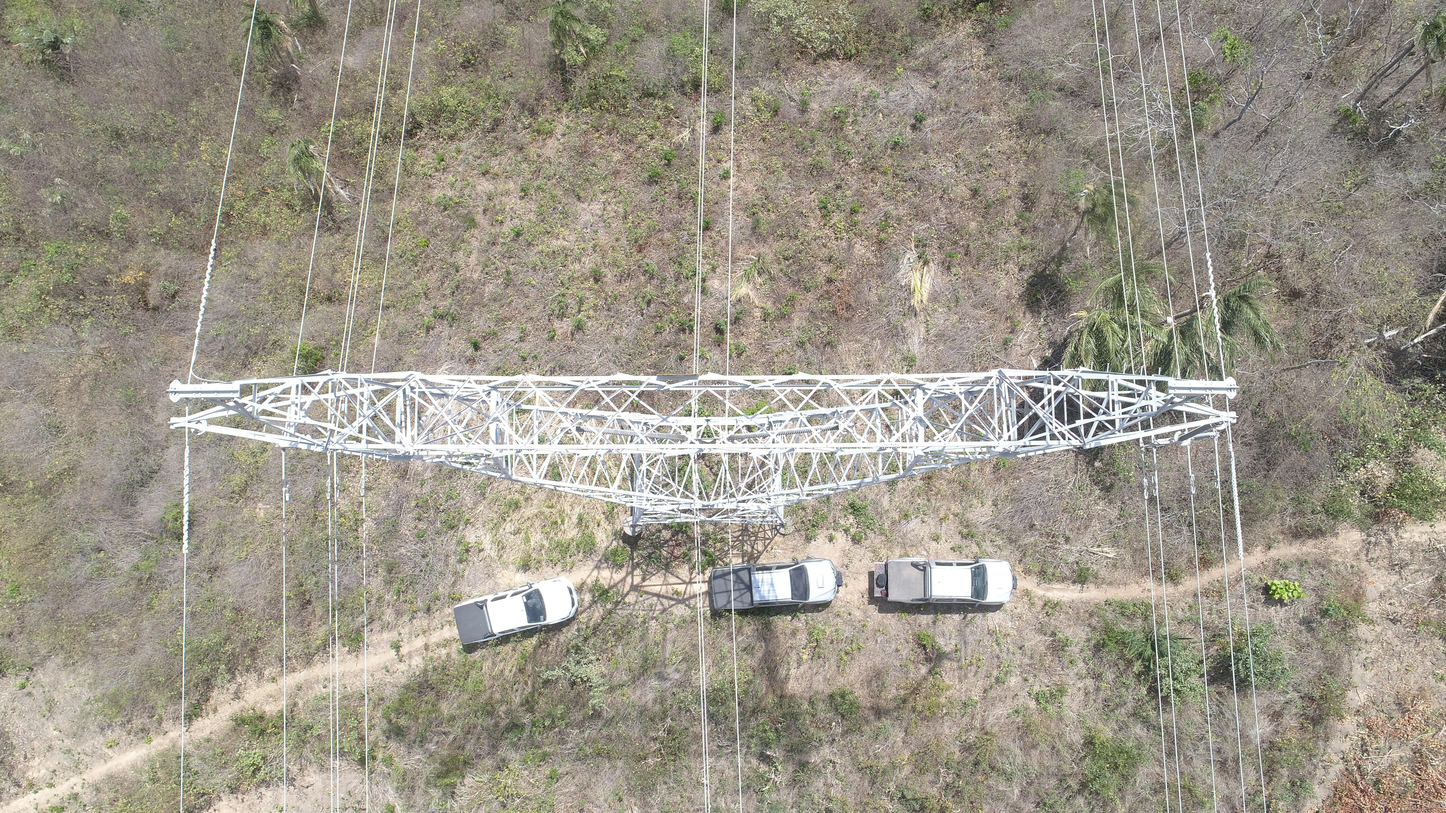power_tower: (167, 370, 1243, 526)
